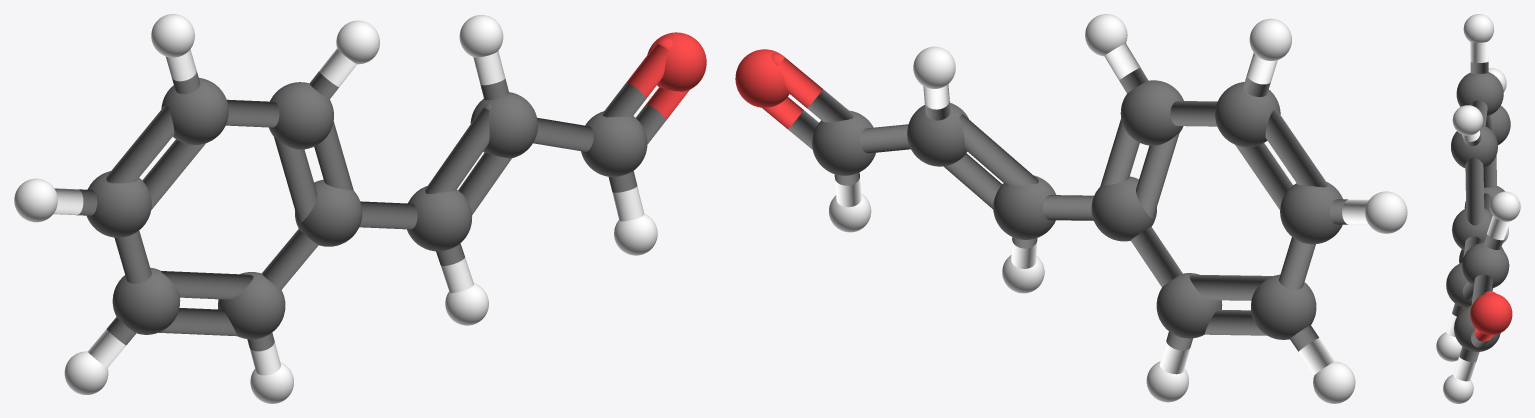
The model's file is cinnamaldehyde.glb.
3 renders of one model, left to right at view 1: azimuth 30°, elevation 25°; view 2: azimuth 150°, elevation 25°; view 3: azimuth 270°, elevation 25°, orthographic. The views are drawn at different scales.
Visible parts, largest first — view 1: cinnamaldehyde; view 2: cinnamaldehyde; view 3: cinnamaldehyde.
Boxes of the visible parts, left/top/right/bottom form: cinnamaldehyde: left=14, top=14, right=706, bottom=403; cinnamaldehyde: left=735, top=14, right=1407, bottom=403; cinnamaldehyde: left=1436, top=14, right=1520, bottom=403.
Size of the model in its own units: 9.15 by 5.28 by 1.4.
